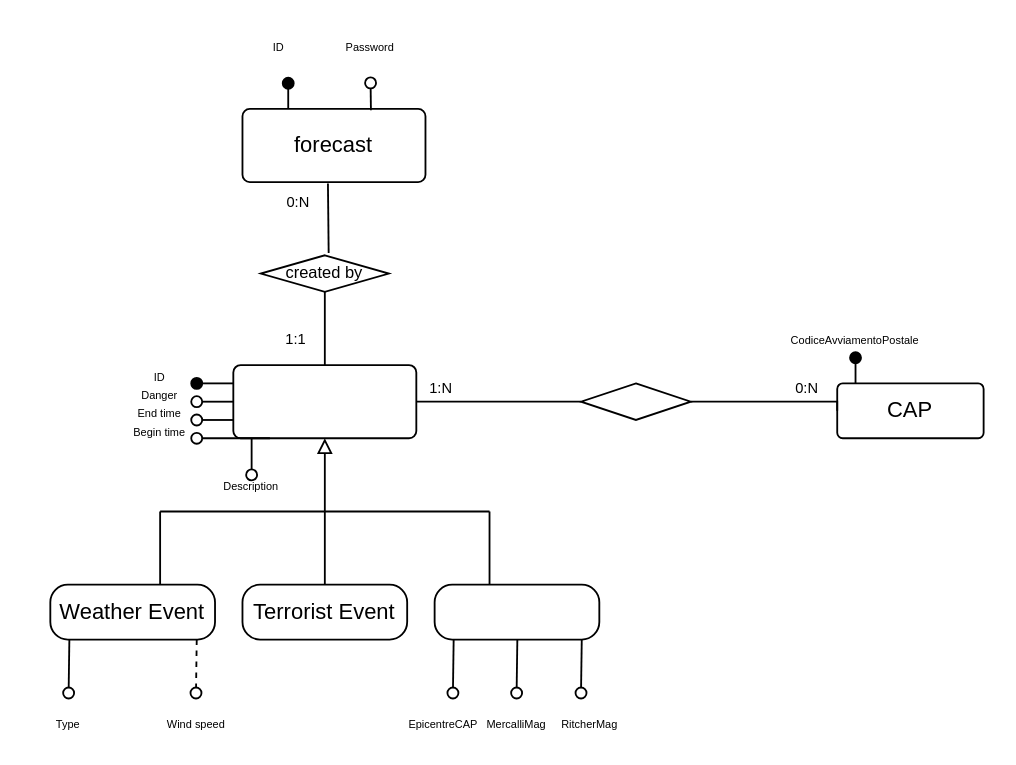
Some shapes in this 1016 by 765 pixel diagram are drawn without their labels. The box of each missing label's shape, as (x1, y1, x2, y2) in pixels:
belongs: (579, 382, 691, 420)
Event: (231, 363, 416, 438)
Seismic Event: (433, 583, 599, 640)
